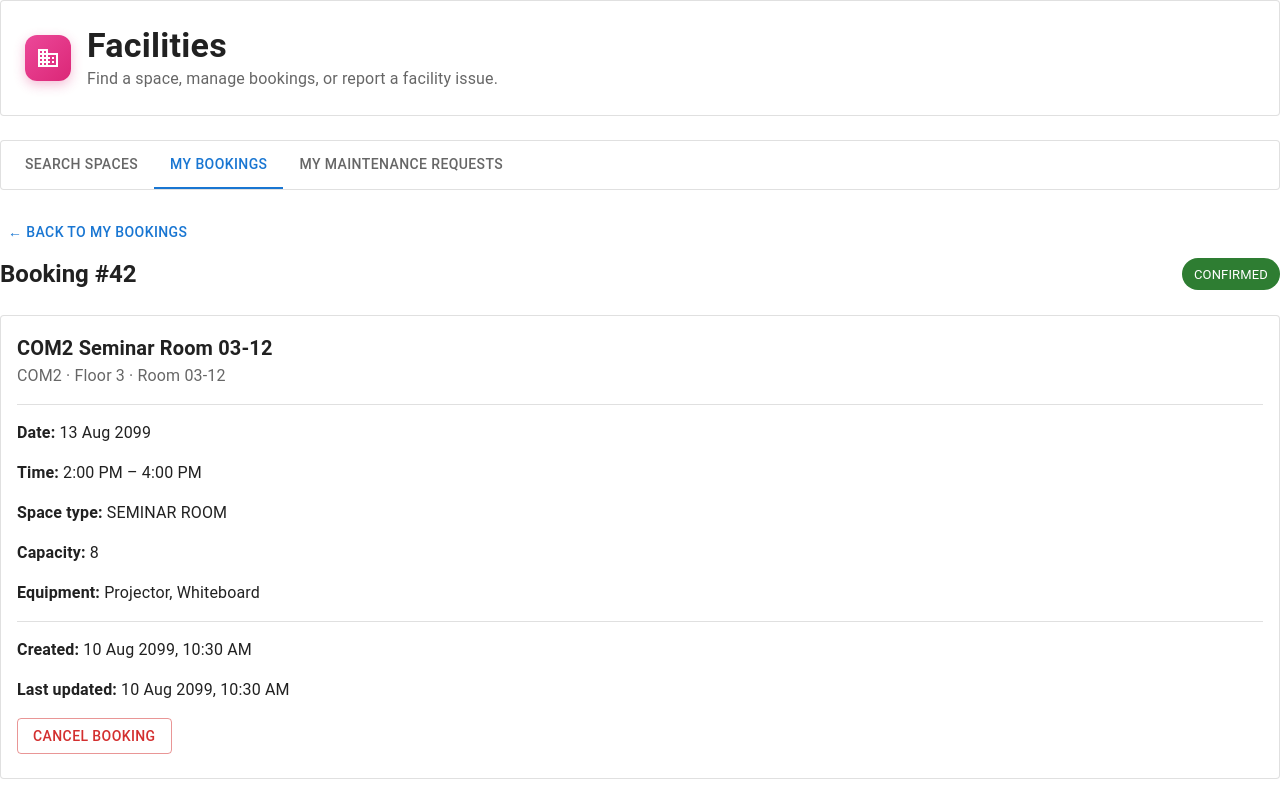
Test: Facilities booking pages › shows the backend cancellation error and allows a safe retry
This screenshot has width=1280, height=800.
Step 1. Click the button "Cancel Booking" → {"x": 94, "y": 736}, box [17, 718, 172, 754]
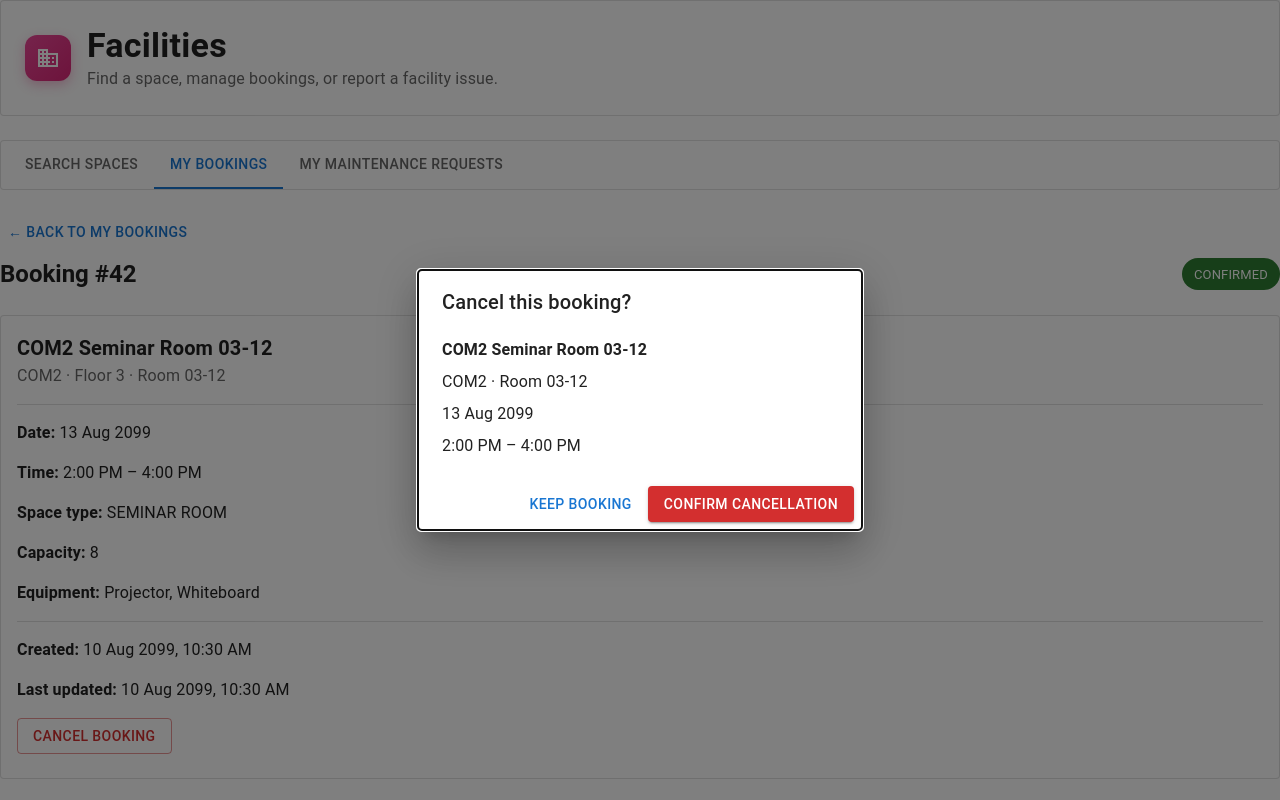
Step 2. Click the button "Confirm Cancellation" → {"x": 751, "y": 504}, box [648, 486, 854, 522]
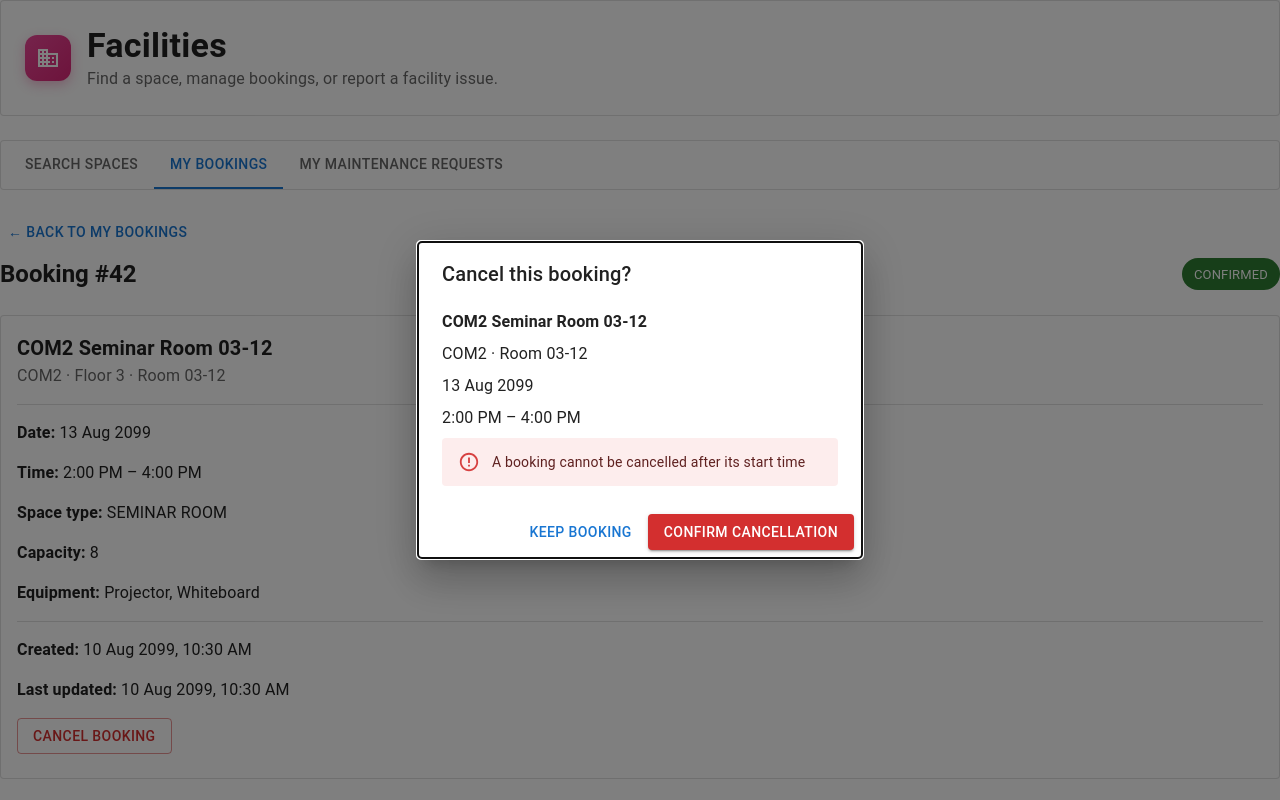
Check: the button "Confirm Cancellation" is enabled, box [648, 514, 854, 550]
Check: the text "A booking cannot be cancelled after its start time" is shown, box [492, 454, 805, 470]
